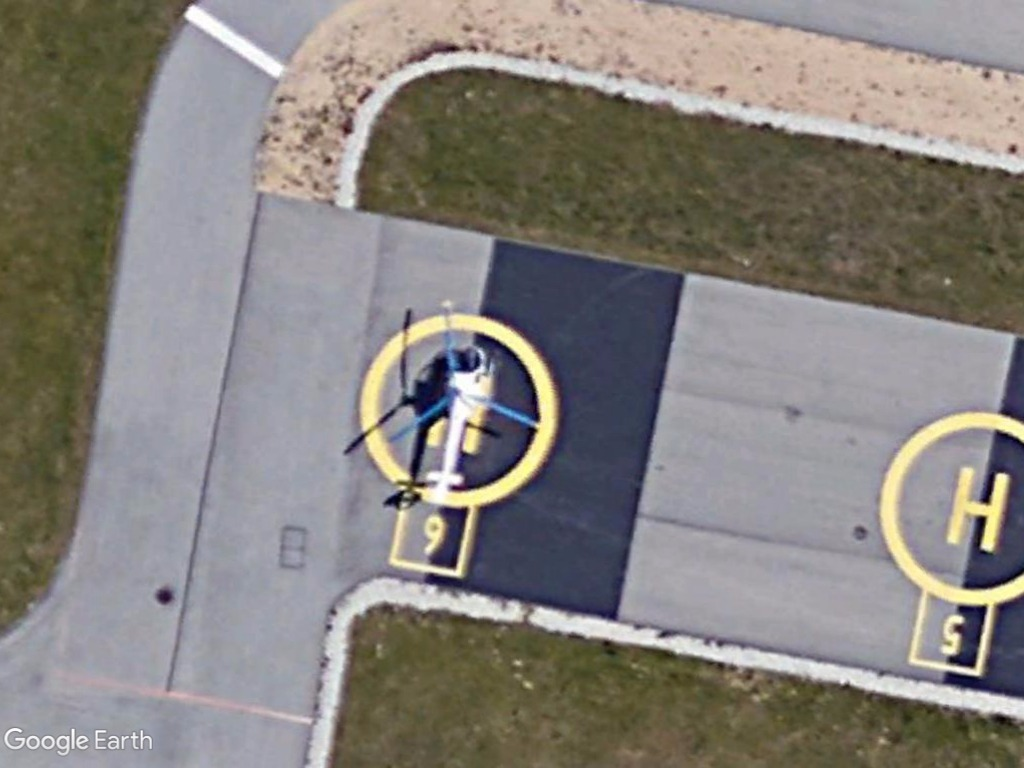helicopter: (366, 294, 551, 517)
